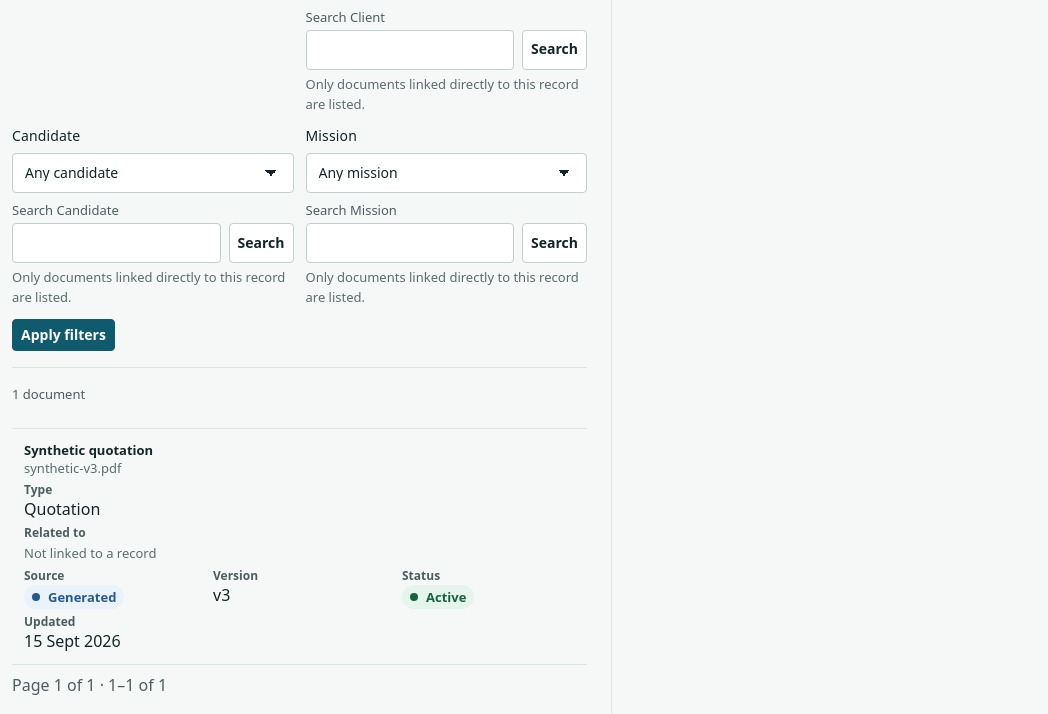
Test: DocumentsPanel presentation › labels Uploaded, Generated, and Imported versions and shows generated provenance
(page scrolled)
Check: the text "Generated" is shown, box left=24, top=585, right=124, bottom=609
Check: the text "v3" is shown, box left=213, top=567, right=386, bottom=609
Click the button "Synthetic quotation": (89, 450) left=24, top=441, right=153, bottom=459
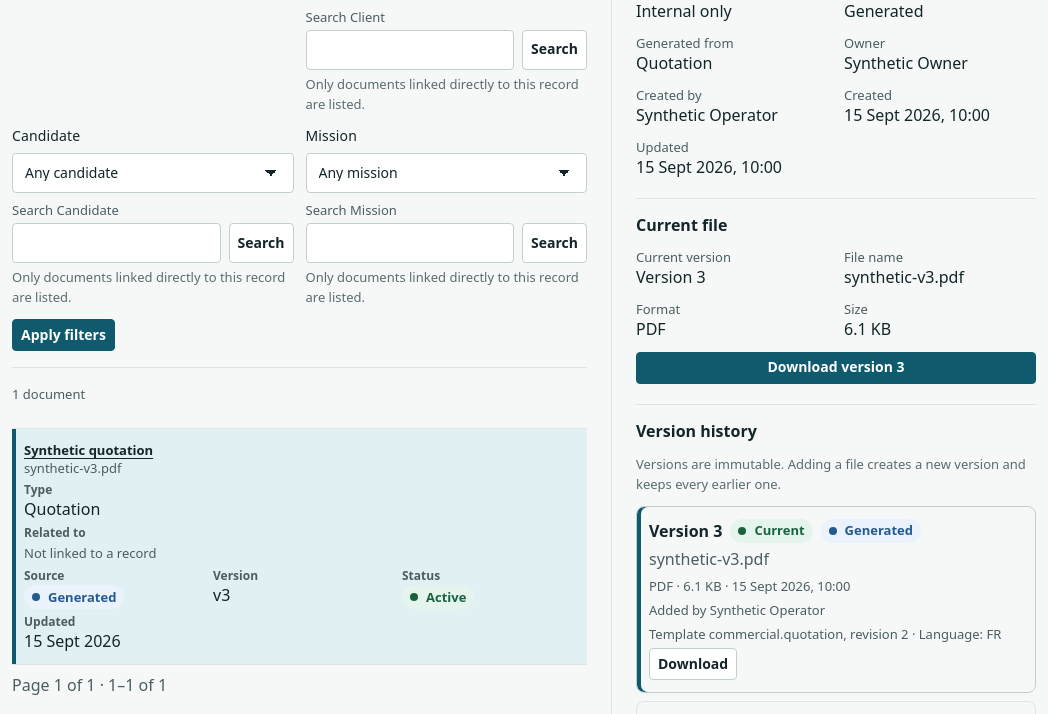
Check: the text "Generated" is shown, box left=821, top=519, right=921, bottom=543
Check: the text "Current" is shown, box left=730, top=519, right=813, bottom=543
Check: the text "Template commercial.quotation, revision 2 · Language: FR" is shown, box left=649, top=624, right=1001, bottom=644
